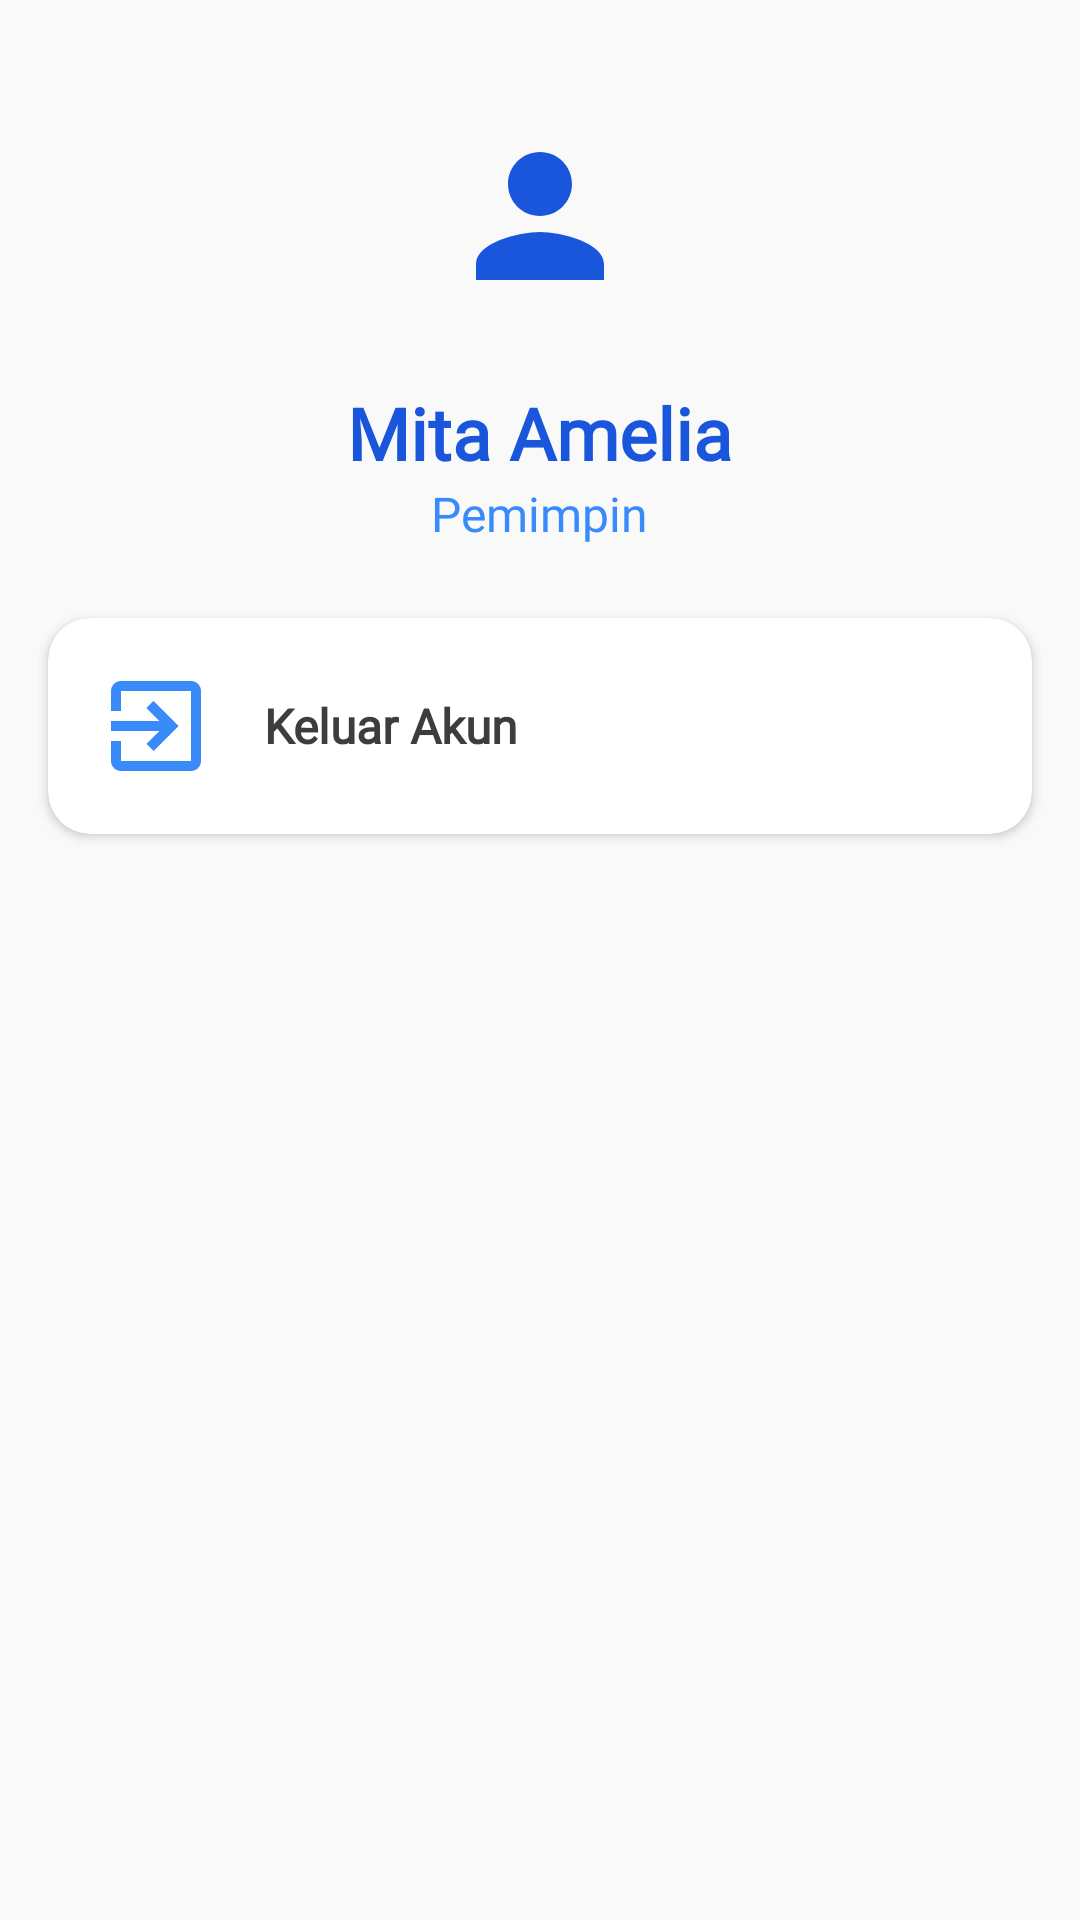

Where to tap for icons on this 1080 x 1920 app screen, as (x,y):
person: (540,216)
